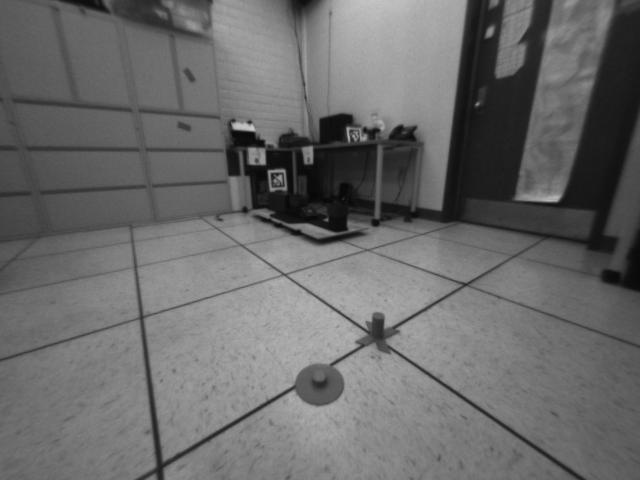X: (353, 311, 402, 355)
